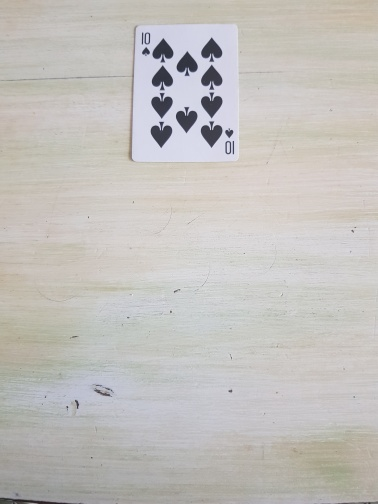ten: (131, 23, 240, 163)
